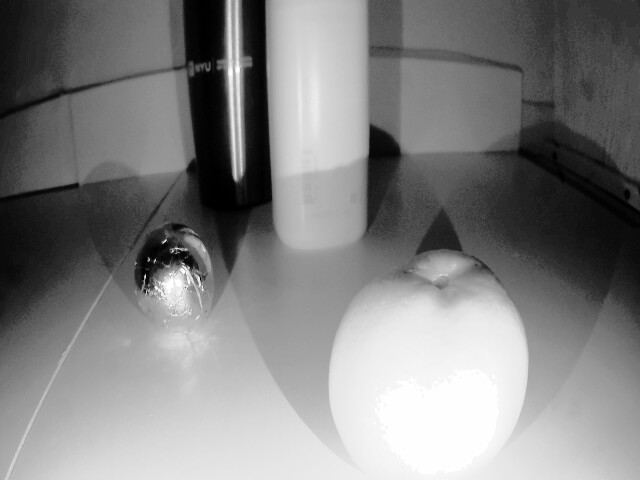silver: (124, 224, 218, 330)
